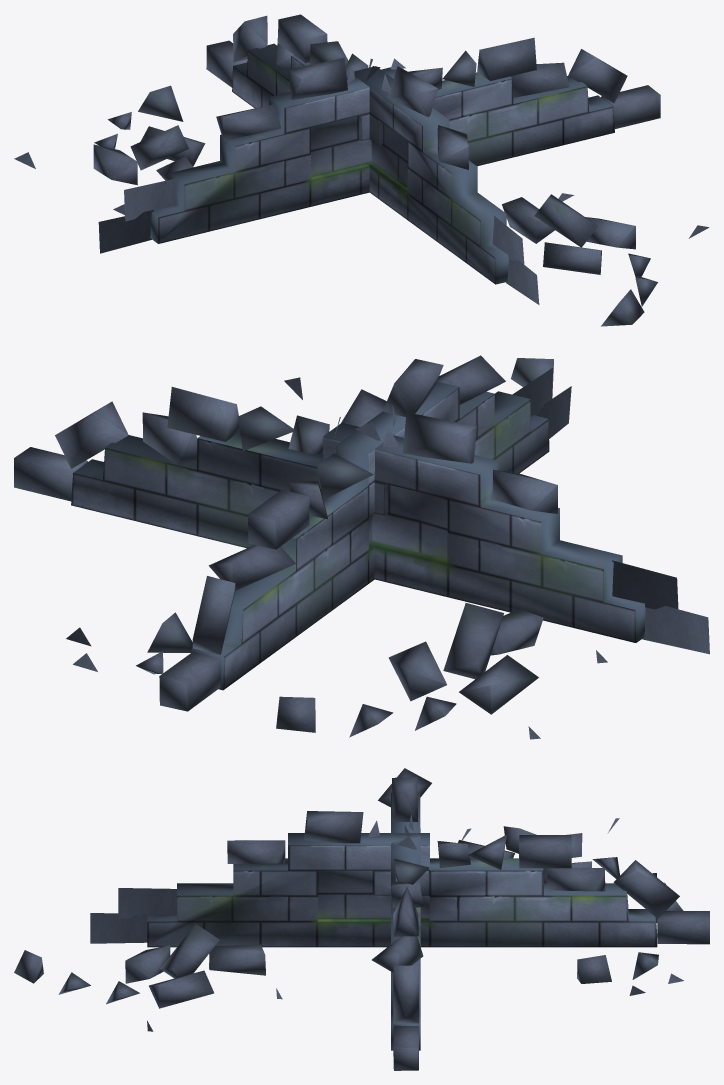
File: ruin_0.fbx
3 renders of one model, top to bottom at view 1: azimuth 30°, elevation 25°; view 2: azimuth 150°, elevation 25°; view 3: azimuth 270°, elevation 25°, orthographic. The views are drawn at different scales.
Parts seen in each view (by area): view 1: Walls11, Bricks11; view 2: Walls11, Bricks11; view 3: Walls11, Bricks11.
Boxes of the visible parts, x1,y1,x2,y2 form: Walls11: (150, 43, 614, 284); Bricks11: (14, 14, 709, 326); Walls11: (71, 381, 645, 690); Bricks11: (14, 355, 709, 739); Walls11: (147, 792, 657, 1050); Bricks11: (14, 768, 709, 1070).
Size of the model in its own units: 219 by 56.24 by 246.
